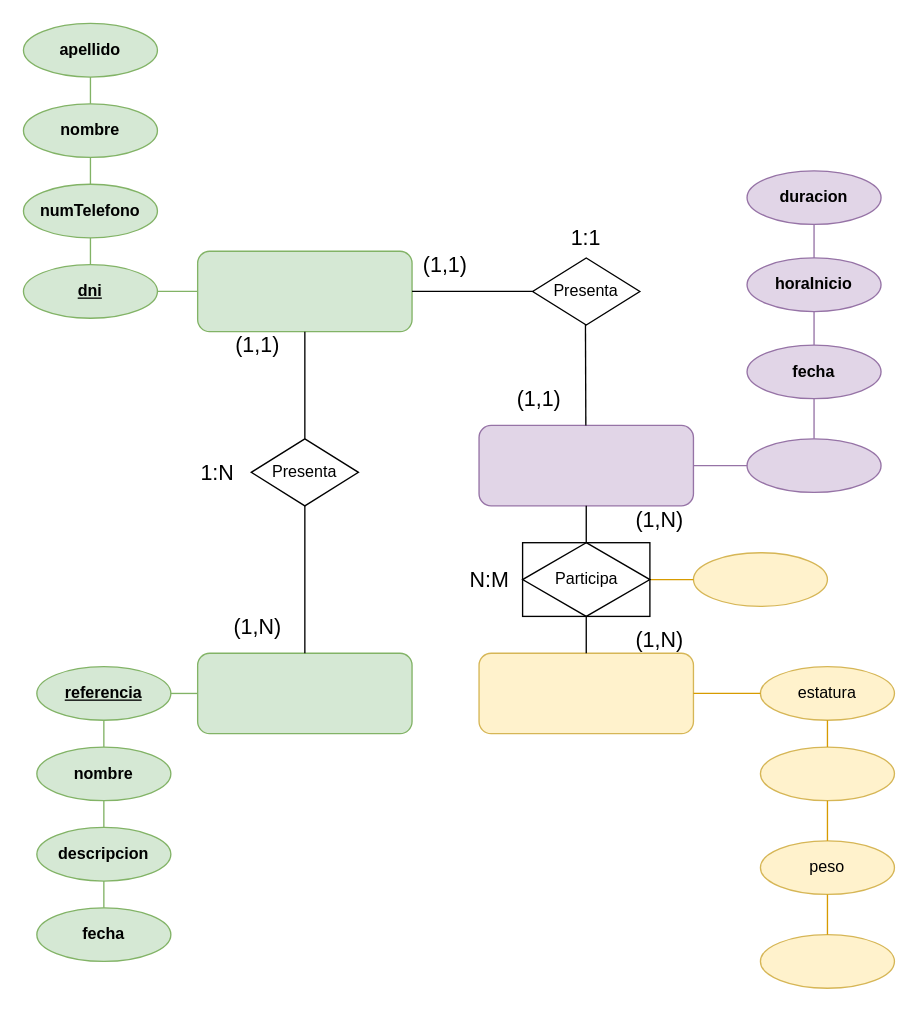
Image size: 918x1012. Some labels were removed from this diagram. The shapes that lost their labels are listed below. From the top down, each one's centre as x and y in pixels, then its label:
At point (304, 291): "Diseñador".
At point (585, 465): "Desfile".
At point (813, 465): "idDesfile".
At point (759, 578): "orden".
At point (304, 693): "Diseño".
At point (585, 693): "Modelo".
At point (826, 773): "idNumero".
At point (826, 960): "tallaPie".
